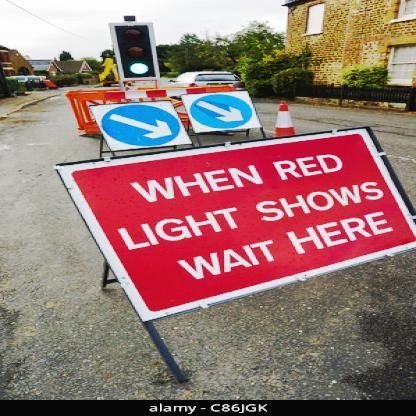Keep right: (94, 104, 190, 148), (191, 92, 255, 128)
